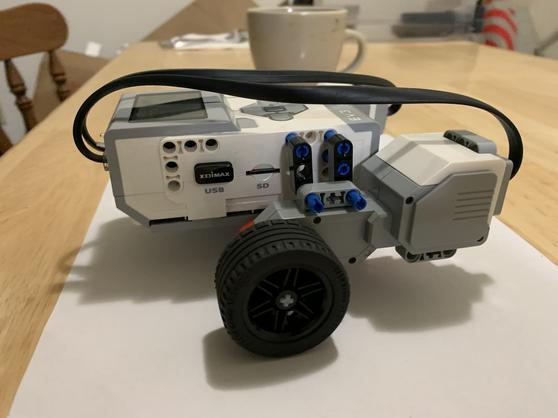robot: (60, 57, 532, 363)
